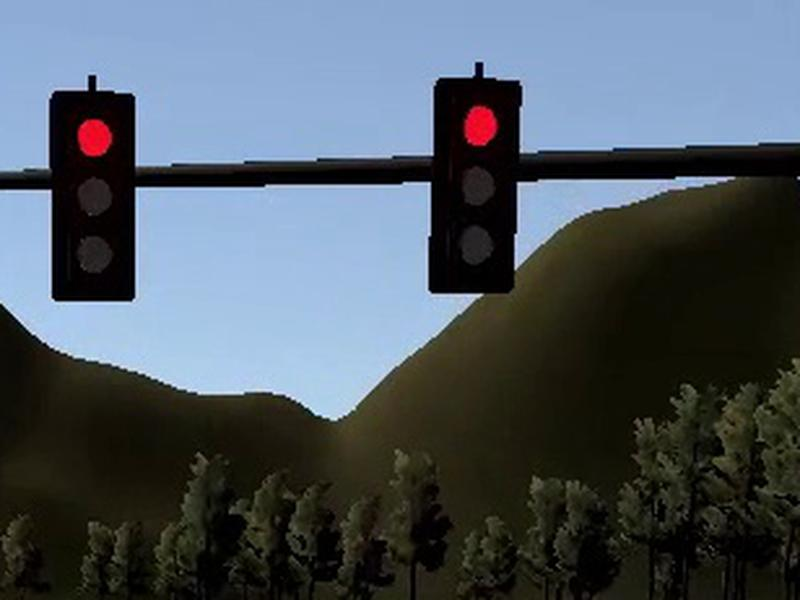Red: (427, 78, 523, 294), (49, 90, 135, 300)
